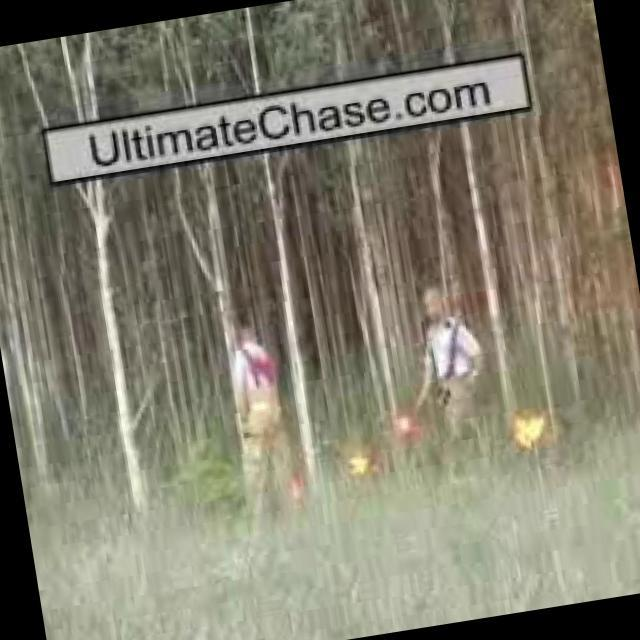Fire: (508, 404, 557, 468), (344, 449, 375, 483), (394, 413, 416, 445), (288, 478, 304, 507)
